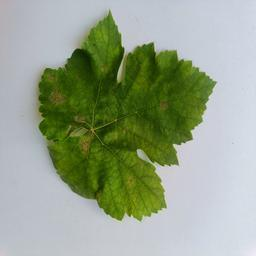Powdery-Mildew: (87, 23, 116, 60), (121, 175, 148, 200), (68, 116, 88, 137), (48, 88, 69, 107), (77, 137, 92, 156), (159, 102, 168, 110)
